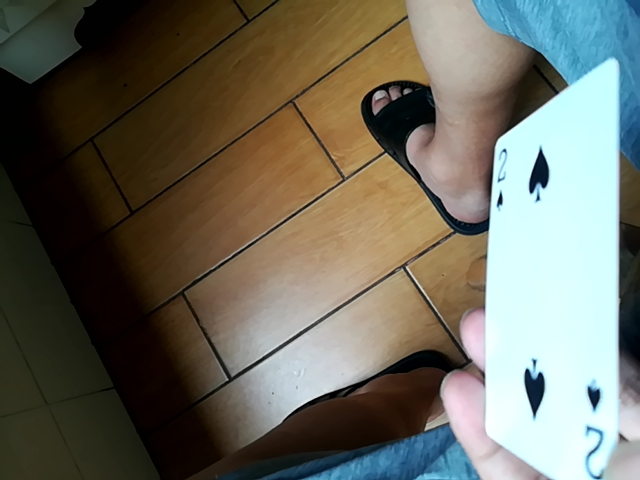ht 2: (481, 69, 627, 470)
